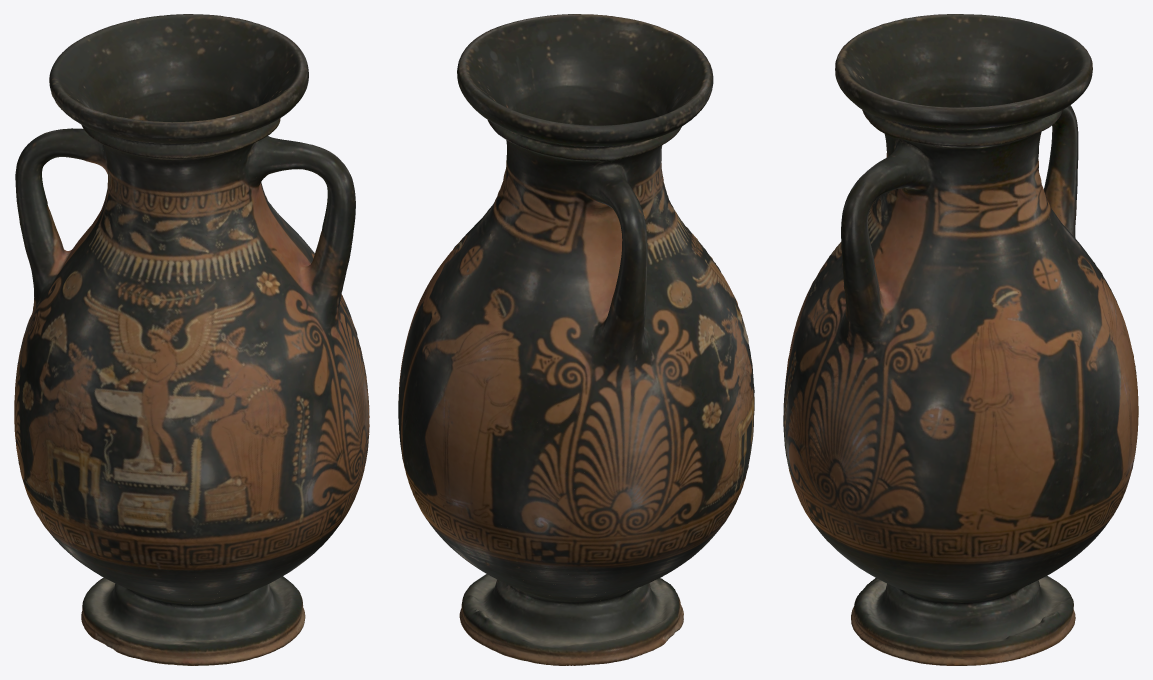
The model's file is rf-leiden-eros.glb.
3 views of the same model, side by side, from view 1: azimuth 30°, elevation 25°; view 2: azimuth 150°, elevation 25°; view 3: azimuth 270°, elevation 25° (orthographic).
Parts seen in each view (by area): view 1: Object_3, Object_2, Object_5, Object_6, Object_4; view 2: Object_2, Object_5, Object_6, Object_4, Object_3; view 3: Object_4, Object_6, Object_5, Object_2, Object_3.
Boxes of the visible parts, x1,y1,x2,y2 form: Object_3: [22, 138, 369, 609]; Object_2: [20, 57, 366, 407]; Object_5: [14, 31, 305, 665]; Object_6: [49, 14, 350, 262]; Object_4: [18, 294, 369, 617]; Object_2: [435, 18, 743, 575]; Object_5: [459, 33, 746, 665]; Object_6: [437, 14, 706, 321]; Object_4: [398, 235, 750, 664]; Object_3: [504, 145, 754, 603]; Object_4: [827, 235, 1137, 633]; Object_6: [839, 47, 1092, 341]; Object_5: [847, 14, 1089, 665]; Object_2: [798, 28, 1138, 500]; Object_3: [783, 135, 924, 556].
Size of the model in its own units: 1.21 by 2.1 by 1.21.
Materials: 1 (1 with a texture image).
